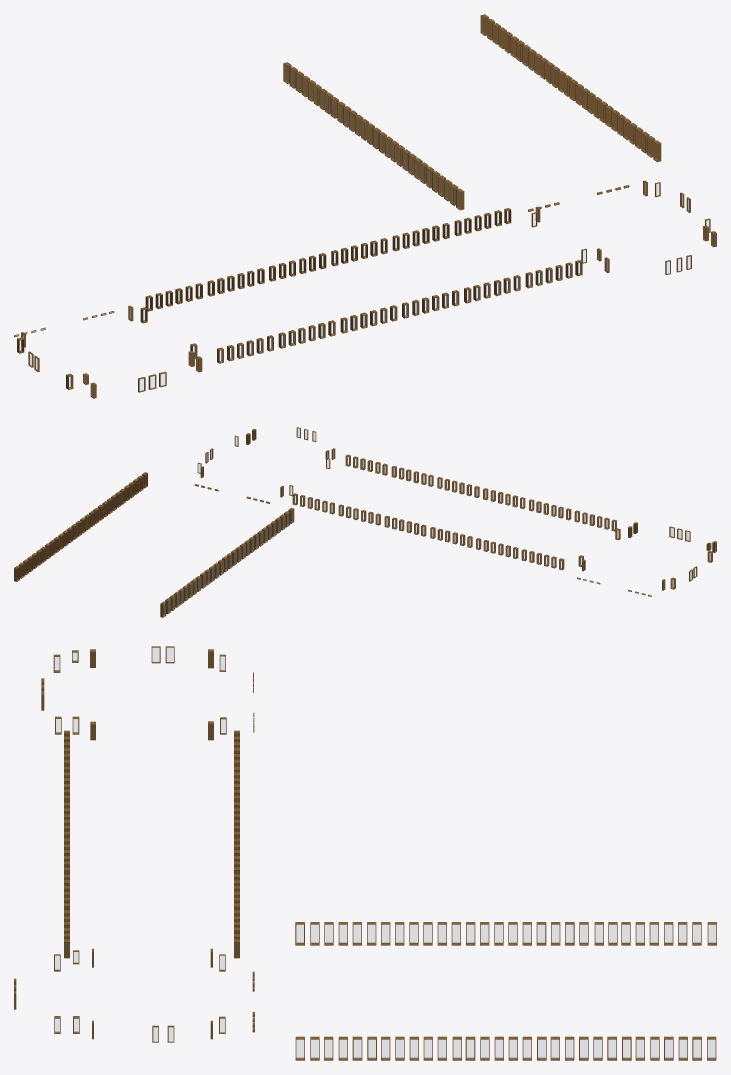
File: insaat_revit.ifc.ifc.ifc_102.5 Derslik (B) + Geo Bölüm Başkanlığı_IfcWindow.dae
3 renders of one model, top to bottom at view 1: azimuth 30°, elevation 25°; view 2: azimuth 150°, elevation 25°; view 3: azimuth 270°, elevation 25°, orthographic. The views are drawn at different scales.
Bounding box in the file's own units: 79.78 × 59.54 × 2.09.
